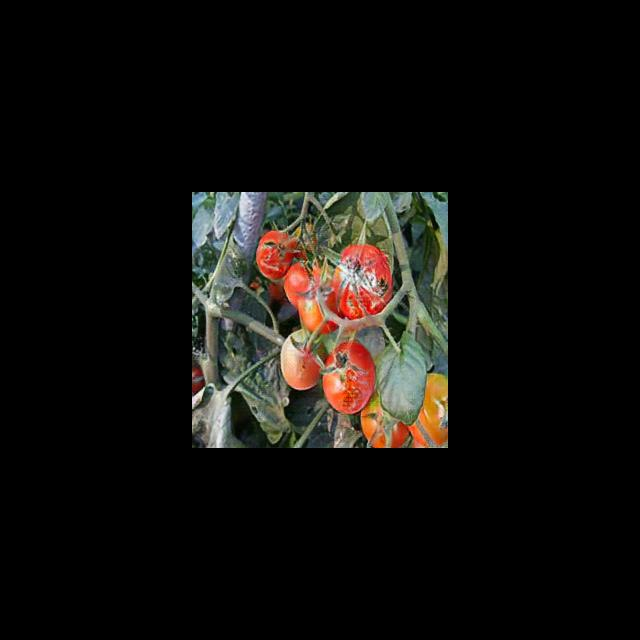tomato: (332, 245, 391, 319), (320, 342, 377, 414), (255, 229, 292, 282)
